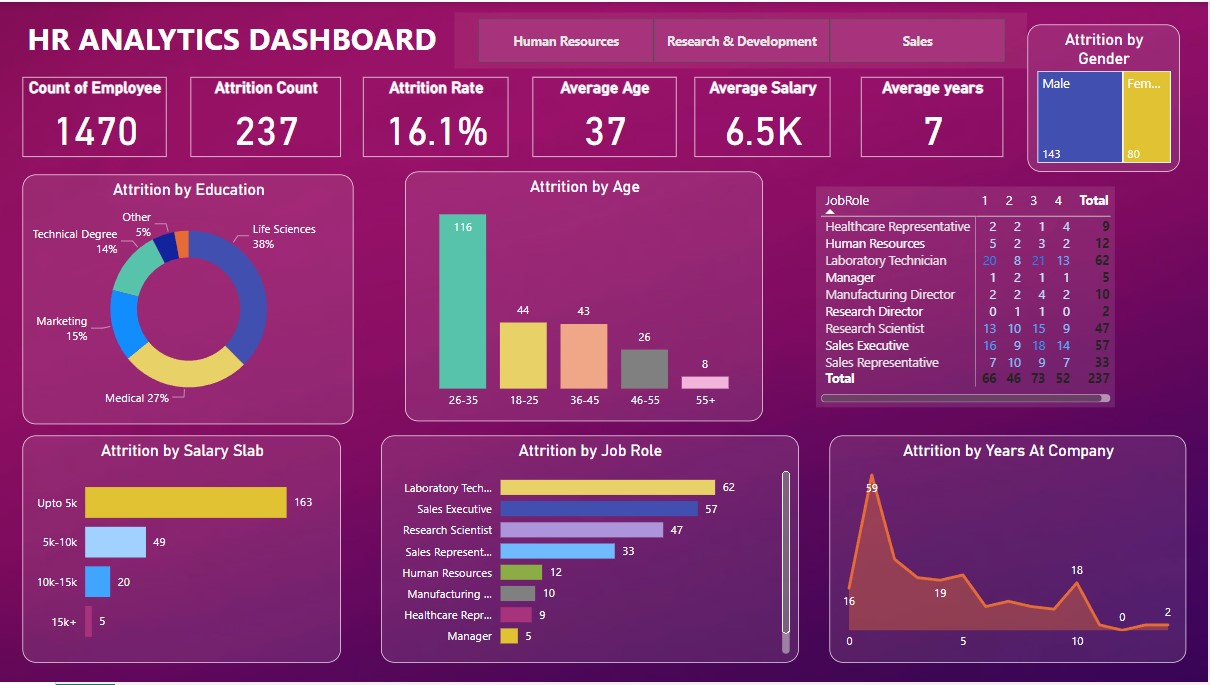

What the dashboard file says about the page in this screenshot:
{"tool":"powerbi","page":{"name":"Page 1","canvas":[1280,720],"ordinal":0},"visuals":[{"type":"card","title":"Count of Employee","fields":{"Values":["CountNonNull(HR_Analytics.EmpID)"]},"box":[23.7,79.7,152.5,84.7],"z":0},{"type":"card","title":"Attrition Count ","fields":{"Values":["Sum(HR_Analytics.AttritionCount)"]},"box":[201.7,79.7,159.3,84.7],"z":1000},{"type":"card","title":"Average Age","fields":{"Values":["Avg(HR_Analytics.Age)"]},"box":[564.4,79.7,152.5,84.7],"z":2000},{"type":"card","title":"Attrition Rate","fields":{"Values":["HR_Analytics.AttritionRate"]},"box":[384.7,79.7,154.2,84.7],"z":3000},{"type":"card","title":"Average years","fields":{"Values":["Avg(HR_Analytics.YearsAtCompany)"]},"box":[911.9,79.7,150.8,84.7],"z":4000},{"type":"card","title":"Average Salary","fields":{"Values":["Avg(HR_Analytics.MonthlyIncome)"]},"box":[735.6,79.7,144.1,84.7],"z":5000},{"type":"donutChart","title":"Attrition by Education","fields":{"Category":["HR_Analytics.EducationField"],"Y":["Sum(HR_Analytics.AttritionCount)"]},"box":[23.7,183.1,350.8,264.4],"z":6000},{"type":"columnChart","title":"Attrition by Age","fields":{"Category":["HR_Analytics.AgeGroup"],"Y":["Sum(HR_Analytics.AttritionCount)"]},"box":[428.8,179.7,379.7,264.4],"z":7000},{"type":"barChart","title":"Attrition by Salary Slab","fields":{"Category":["HR_Analytics.SalarySlab"],"Y":["Sum(HR_Analytics.AttritionCount)"]},"box":[23.7,459.3,337.3,240.7],"z":8000},{"type":"barChart","title":"Attrition by Job Role","fields":{"Category":["HR_Analytics.JobRole"],"Y":["Sum(HR_Analytics.AttritionCount)"]},"box":[403.4,459.3,442.4,240.7],"z":9000},{"type":"areaChart","title":"Attrition by Years At Company","fields":{"Category":["HR_Analytics.YearsAtCompany"],"Y":["Sum(HR_Analytics.AttritionCount)"]},"box":[879.7,459.3,378,240.7],"z":10000},{"type":"treemap","title":"Attrition by Gender","fields":{"Group":["HR_Analytics.Gender"],"Values":["Sum(HR_Analytics.AttritionCount)"]},"box":[1088.1,23.7,161,155.9],"z":11000},{"type":"slicer","fields":{"Values":["HR_Analytics.Department"]},"box":[481.4,11.9,606.8,59.3],"z":12000},{"type":"textbox","box":[23.7,11.9,515.3,67.8],"z":13000},{"type":"pivotTable","fields":{"Rows":["HR_Analytics.JobRole"],"Columns":["HR_Analytics.JobSatisfaction"],"Values":["Sum(HR_Analytics.AttritionCount)"]},"box":[864.4,194.9,316.9,233.9],"z":14000}]}

Visuals, with their boxes in screenshot pixels (x1, y1, x2, y2), scaled from the page's 1280x720 canvas onto the 1210x685 screenshot:
"Count of Employee" card: 22 76 167 156
"Attrition Count " card: 191 76 341 156
"Average Age" card: 534 76 678 156
"Attrition Rate" card: 364 76 509 156
"Average years" card: 862 76 1005 156
"Average Salary" card: 695 76 832 156
"Attrition by Education" donutChart: 22 174 354 426
"Attrition by Age" columnChart: 405 171 764 423
"Attrition by Salary Slab" barChart: 22 437 341 666
"Attrition by Job Role" barChart: 381 437 800 666
"Attrition by Years At Company" areaChart: 832 437 1189 666
"Attrition by Gender" treemap: 1029 23 1181 171
slicer - HR_Analytics.Department: 455 11 1029 68
textbox: 22 11 510 76
pivotTable - HR_Analytics.JobRole x HR_Analytics.JobSatisfaction: 817 185 1117 408
